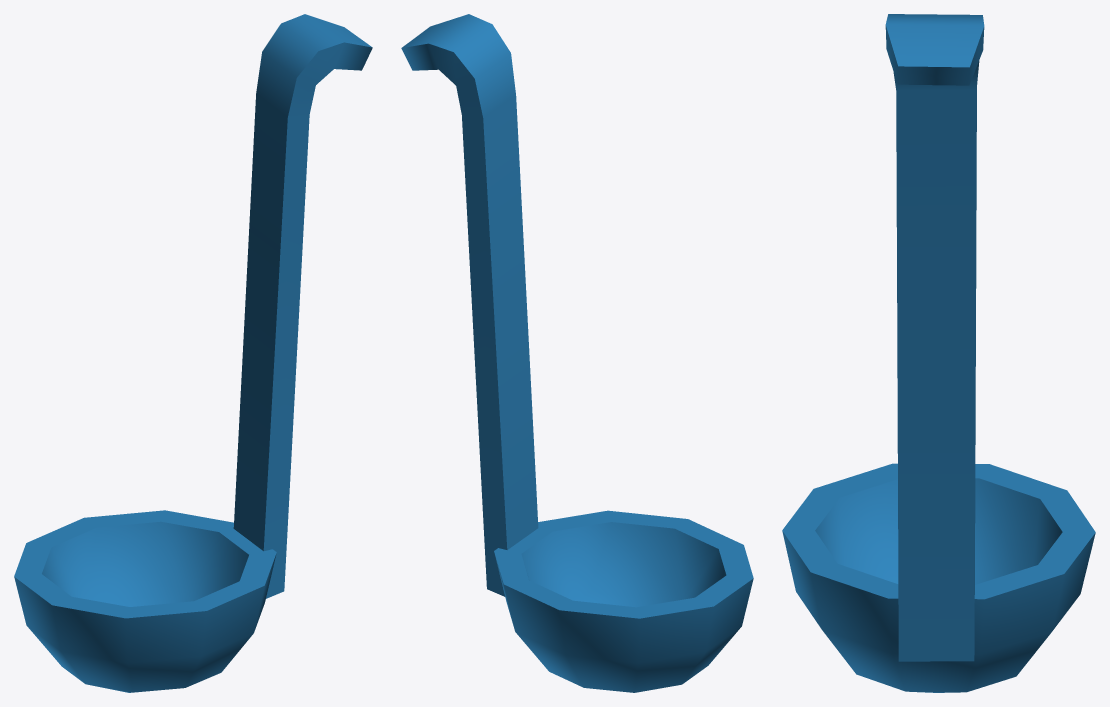
File: Chef_spoon.fbx
3 views of the same model, side by side, from view 1: azimuth 30°, elevation 25°; view 2: azimuth 150°, elevation 25°; view 3: azimuth 270°, elevation 25° (orthographic). The views are drawn at different scales.
Visible parts, largest first — view 1: Chef_spoon_01; view 2: Chef_spoon_01; view 3: Chef_spoon_01.
Boxes of the visible parts, x1,y1,x2,y2 form: Chef_spoon_01: (14, 14, 372, 692); Chef_spoon_01: (401, 14, 753, 692); Chef_spoon_01: (782, 14, 1095, 692).
Size of the model in its own units: 56.53 by 102 by 38.24.
